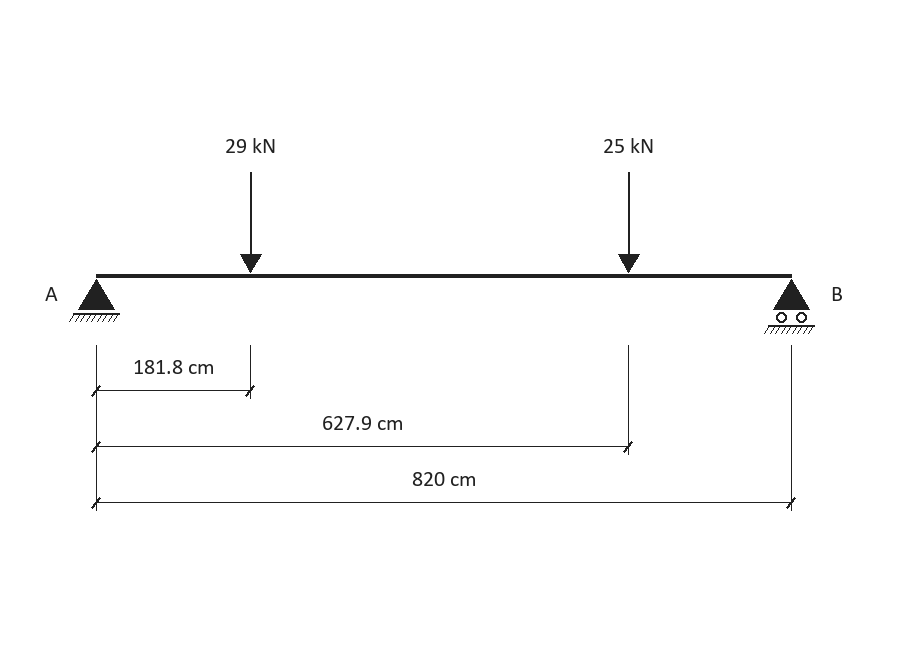pin_support: (69, 279, 120, 322)
point_load: (240, 172, 262, 273), (618, 172, 640, 273)
roller_support: (764, 279, 815, 334)
